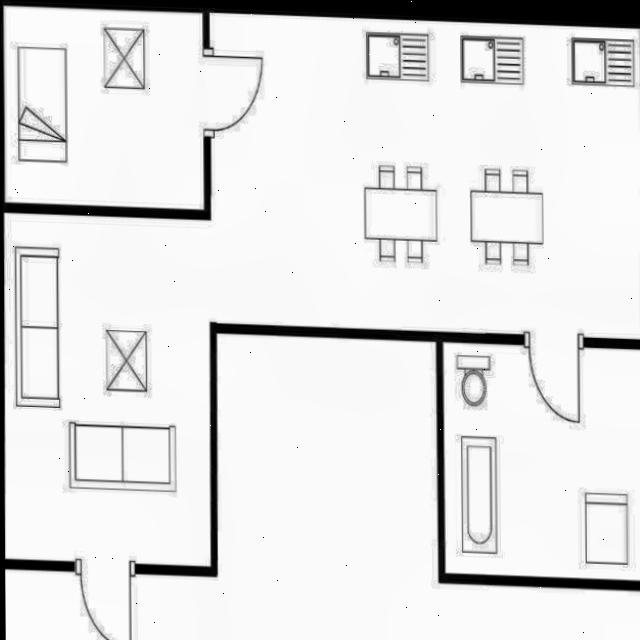room: (3, 13, 640, 566), (443, 343, 640, 580), (0, 6, 210, 210)
